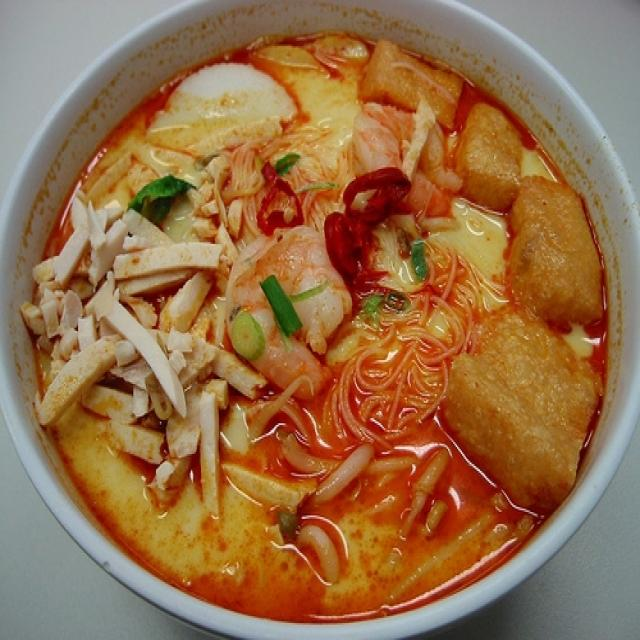面条主食: (19, 20, 626, 612)
